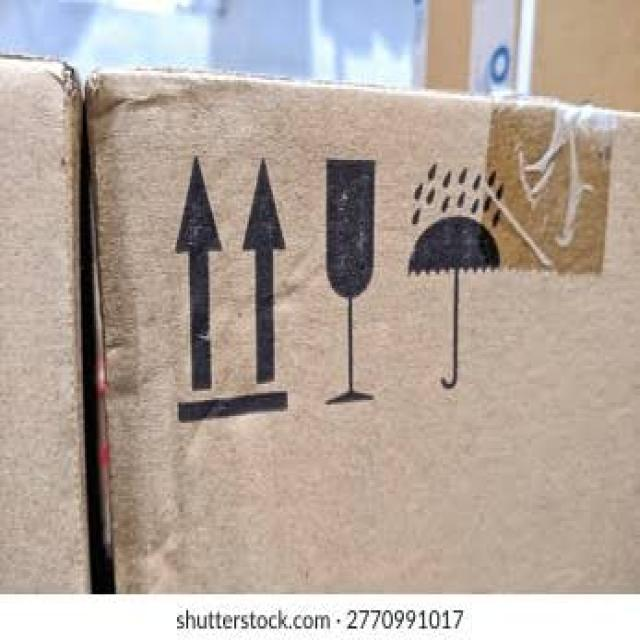fragile_label: (316, 144, 394, 430)
keep_dry_label: (398, 151, 517, 414)
this_side_up_label: (153, 144, 305, 438)
